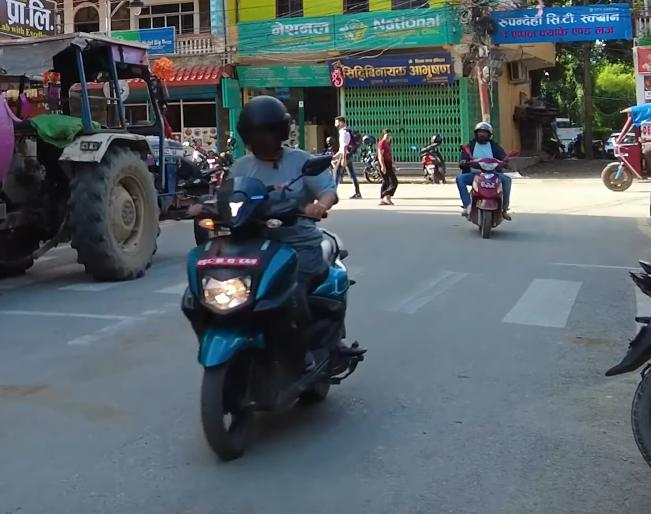e-rickshaw: (601, 101, 651, 198)
scooter: (166, 152, 371, 453), (454, 138, 520, 244), (413, 137, 449, 188)
tractor: (0, 28, 168, 286)
